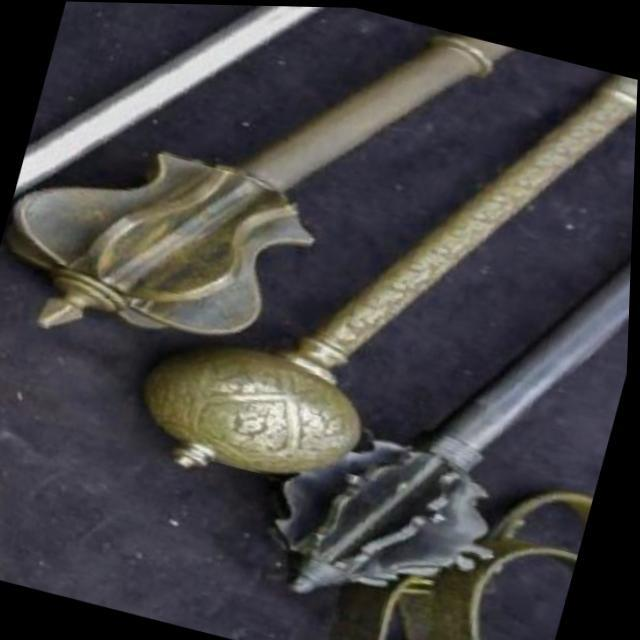weapon: (123, 2, 640, 566)
